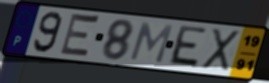8: (99, 18, 135, 62)
9: (33, 10, 65, 54)
E: (57, 11, 102, 61), (166, 24, 209, 70)
M: (127, 21, 175, 66)
X: (200, 27, 242, 72)
